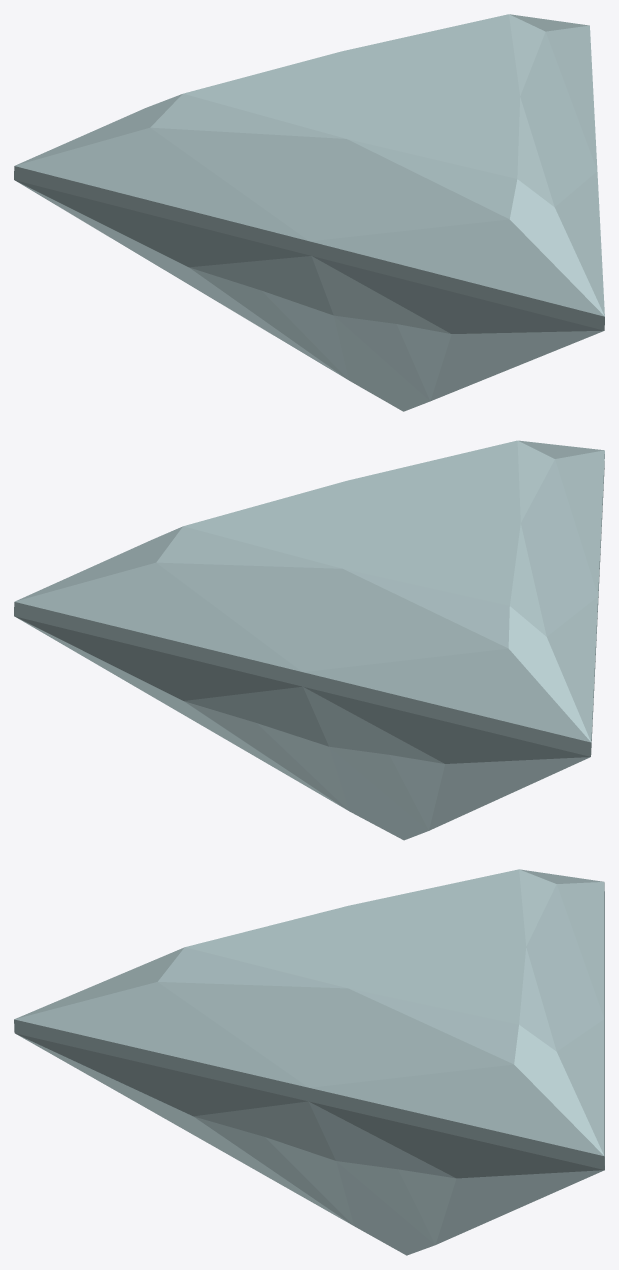
Rendered from stone_trilliant_cut.fbx.
3 renders of one model, top to bottom at view 1: azimuth 30°, elevation 25°; view 2: azimuth 150°, elevation 25°; view 3: azimuth 270°, elevation 25°, orthographic. The views are drawn at different scales.
Visible parts, largest first — view 1: stone_trilliant_cut; view 2: stone_trilliant_cut; view 3: stone_trilliant_cut.
Part boxes in pixels (x1=…): stone_trilliant_cut: x1=14, y1=14, x2=604, y2=411; stone_trilliant_cut: x1=14, y1=440, x2=604, y2=840; stone_trilliant_cut: x1=14, y1=869, x2=604, y2=1255.
Bounding box in the file's own units: 1.6 × 0.8405 × 1.46.
